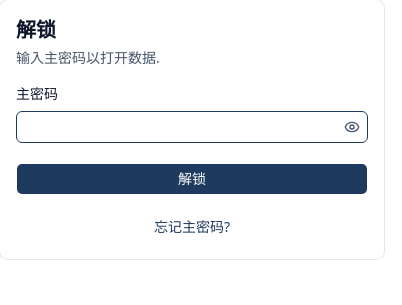
Test: UnlockScreen 解锁 › 主密码不对时在输入框下方提示并标红, 状态保持 locked
Type "wrong password" into the password field labelled "主密码". click: x=178, y=127
box: [17,111,340,143]
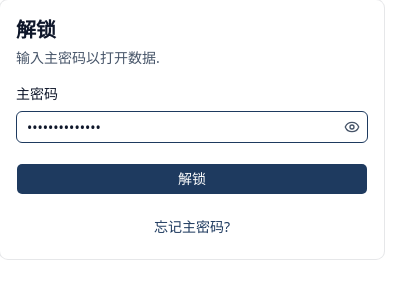
Click the button "解锁". click: x=192, y=179
box: [16,163,368,195]
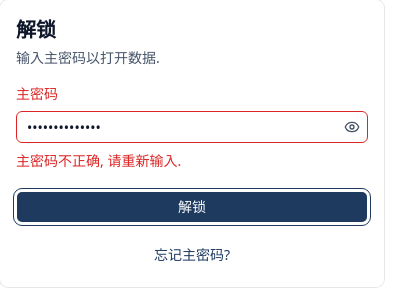
Now the message reads "主密码不正确, 请重新输入.", box [16,151,181,170]
